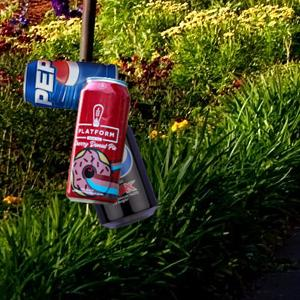can: (65, 76, 132, 204)
